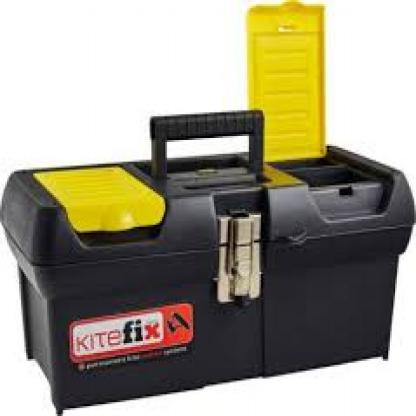Tool Box: (0, 0, 413, 416)
